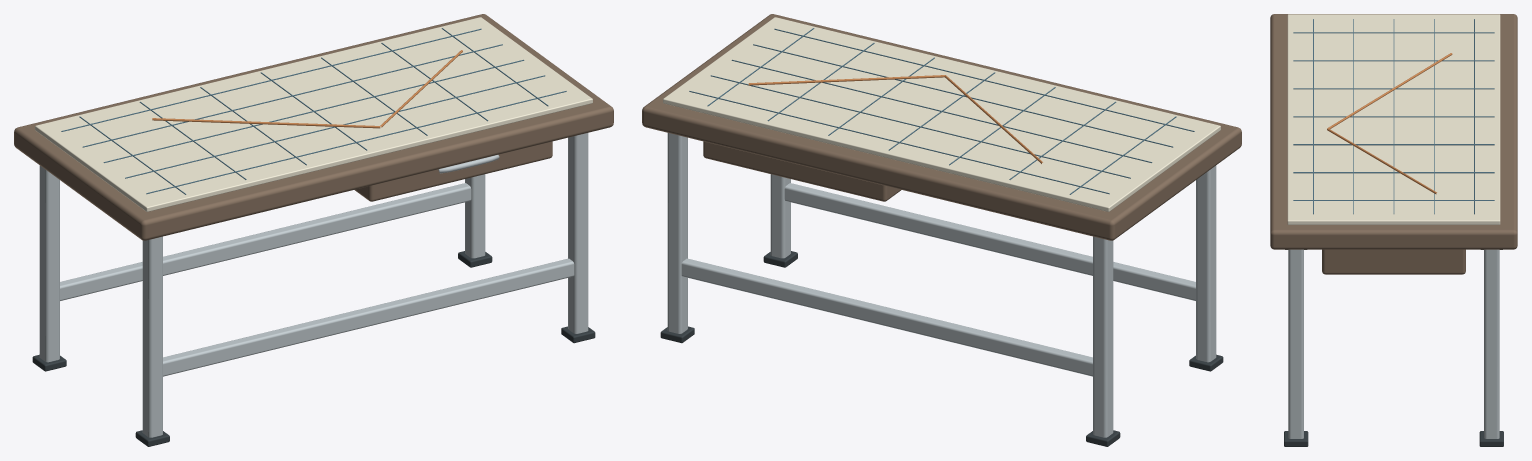
File: abandoned-weather-station-and-storm-shelter-plotting-d-ccd54b2d__31034.glb
3 views of the same model, side by side, from view 1: azimuth 30°, elevation 25°; view 2: azimuth 150°, elevation 25°; view 3: azimuth 270°, elevation 25° (orthographic). The views are drawn at different scales.
Parts seen in each view (by area): view 1: plotting-desk; view 2: plotting-desk; view 3: plotting-desk.
Boxes of the visible parts, <box> form: plotting-desk: <box>14,14,613,446</box>; plotting-desk: <box>642,14,1241,446</box>; plotting-desk: <box>1270,14,1517,446</box>.
Bounding box in the file's own units: 1.8 × 0.882 × 0.8599.
